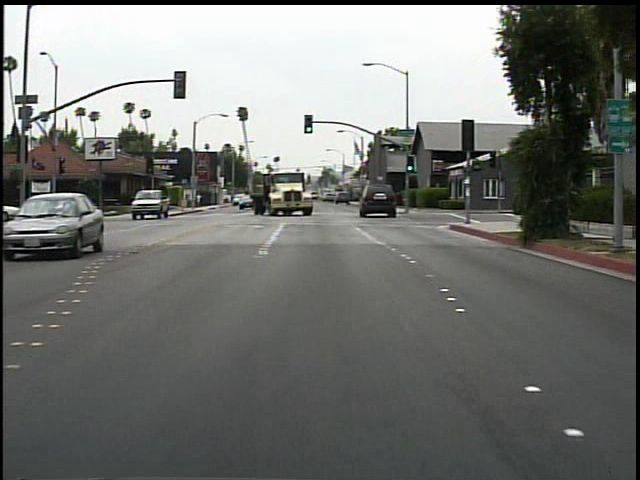person: (196, 190, 206, 209)
